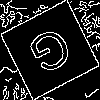G: (25, 25, 80, 84)
